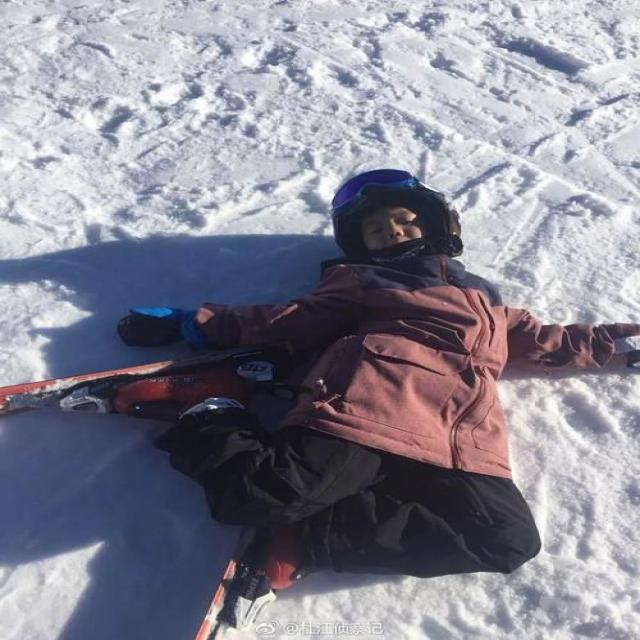fall: (152, 173, 575, 594)
